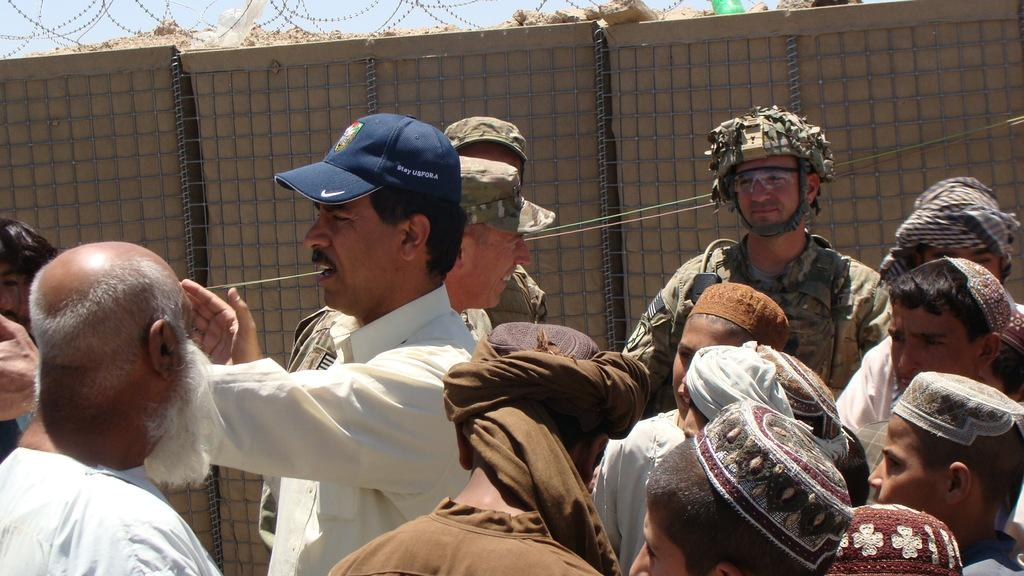Hat: (274, 110, 460, 218)
